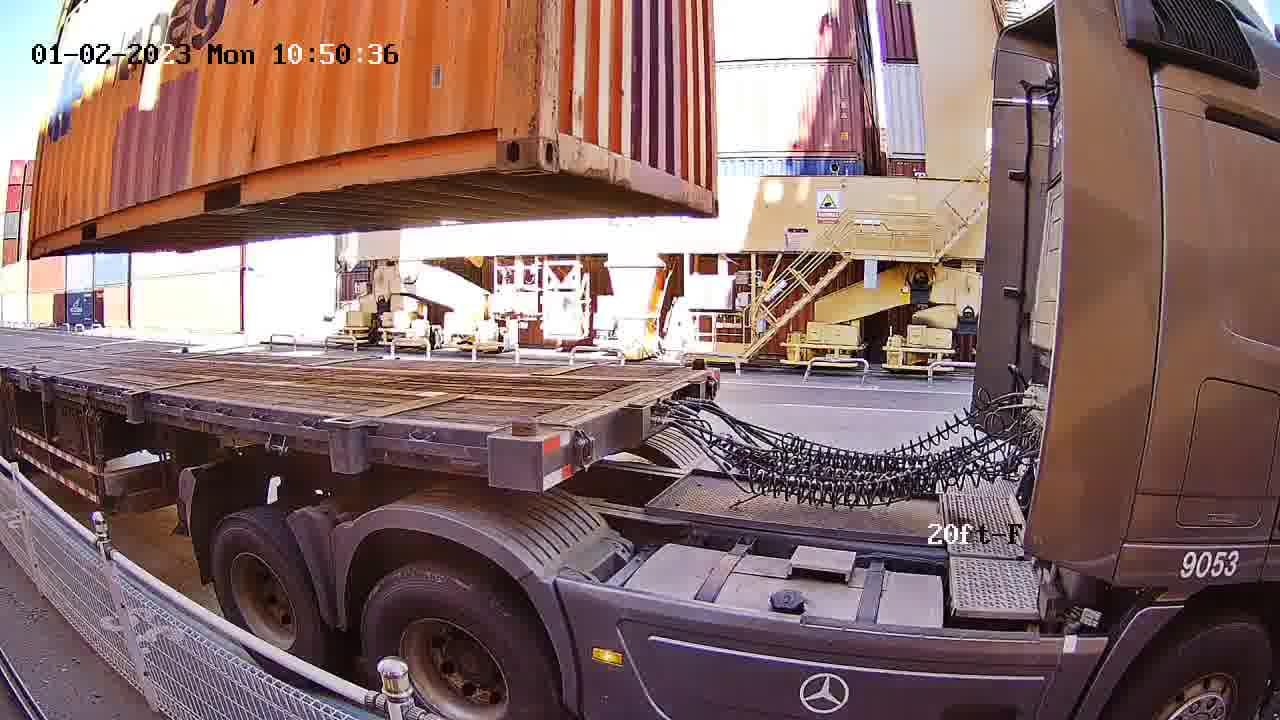Chassis: (489, 366, 718, 494)
Cone: (501, 411, 542, 493), (687, 353, 710, 375)
Hole_L: (539, 90, 596, 176)
Hole_R: (456, 90, 539, 172), (694, 172, 720, 219)
Tire: (367, 575, 549, 715), (210, 519, 318, 680)
